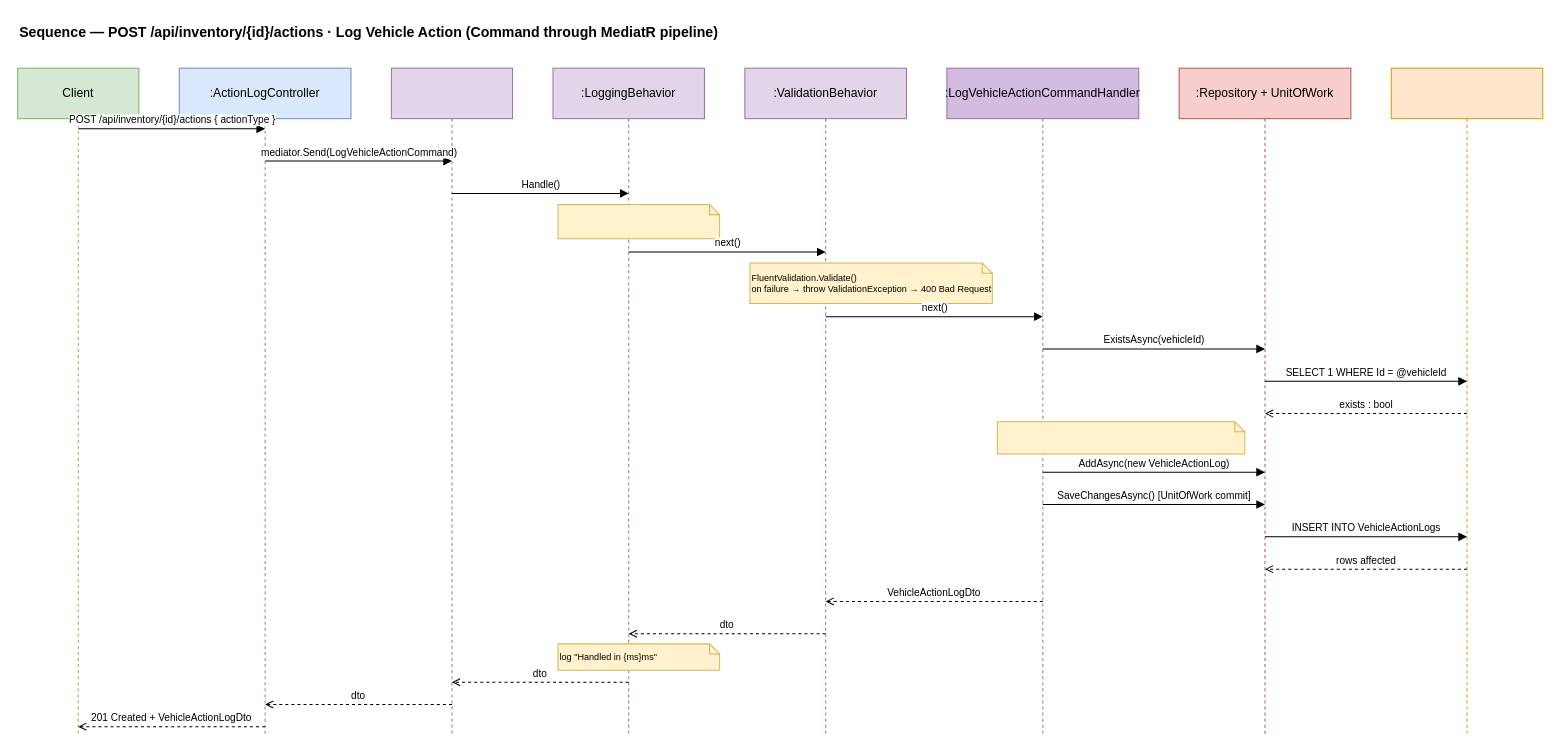
The diagram is 1560 pixels wide and 752 high, and some of its shapes have lost their labels. The shapes that lost their labels are listed below. From the top down, each one's box as (x1, y1, x2, y2) in pixels, then its label:
(557, 204, 720, 239): log "Handling {Request}" start Stopwatch
(390, 67, 513, 735): :MediatR
(1390, 67, 1543, 735): :SQL Server (via EF Core)
(996, 421, 1245, 454): if !exists → throw NotFoundException → 404 Not Found
